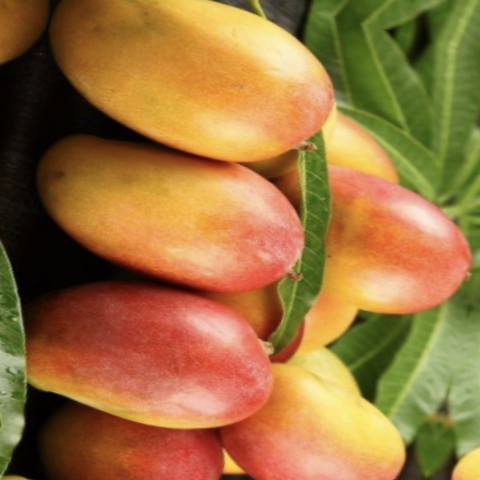mango: (0, 239, 320, 471), (33, 0, 376, 199), (11, 109, 316, 325), (248, 141, 480, 351)
